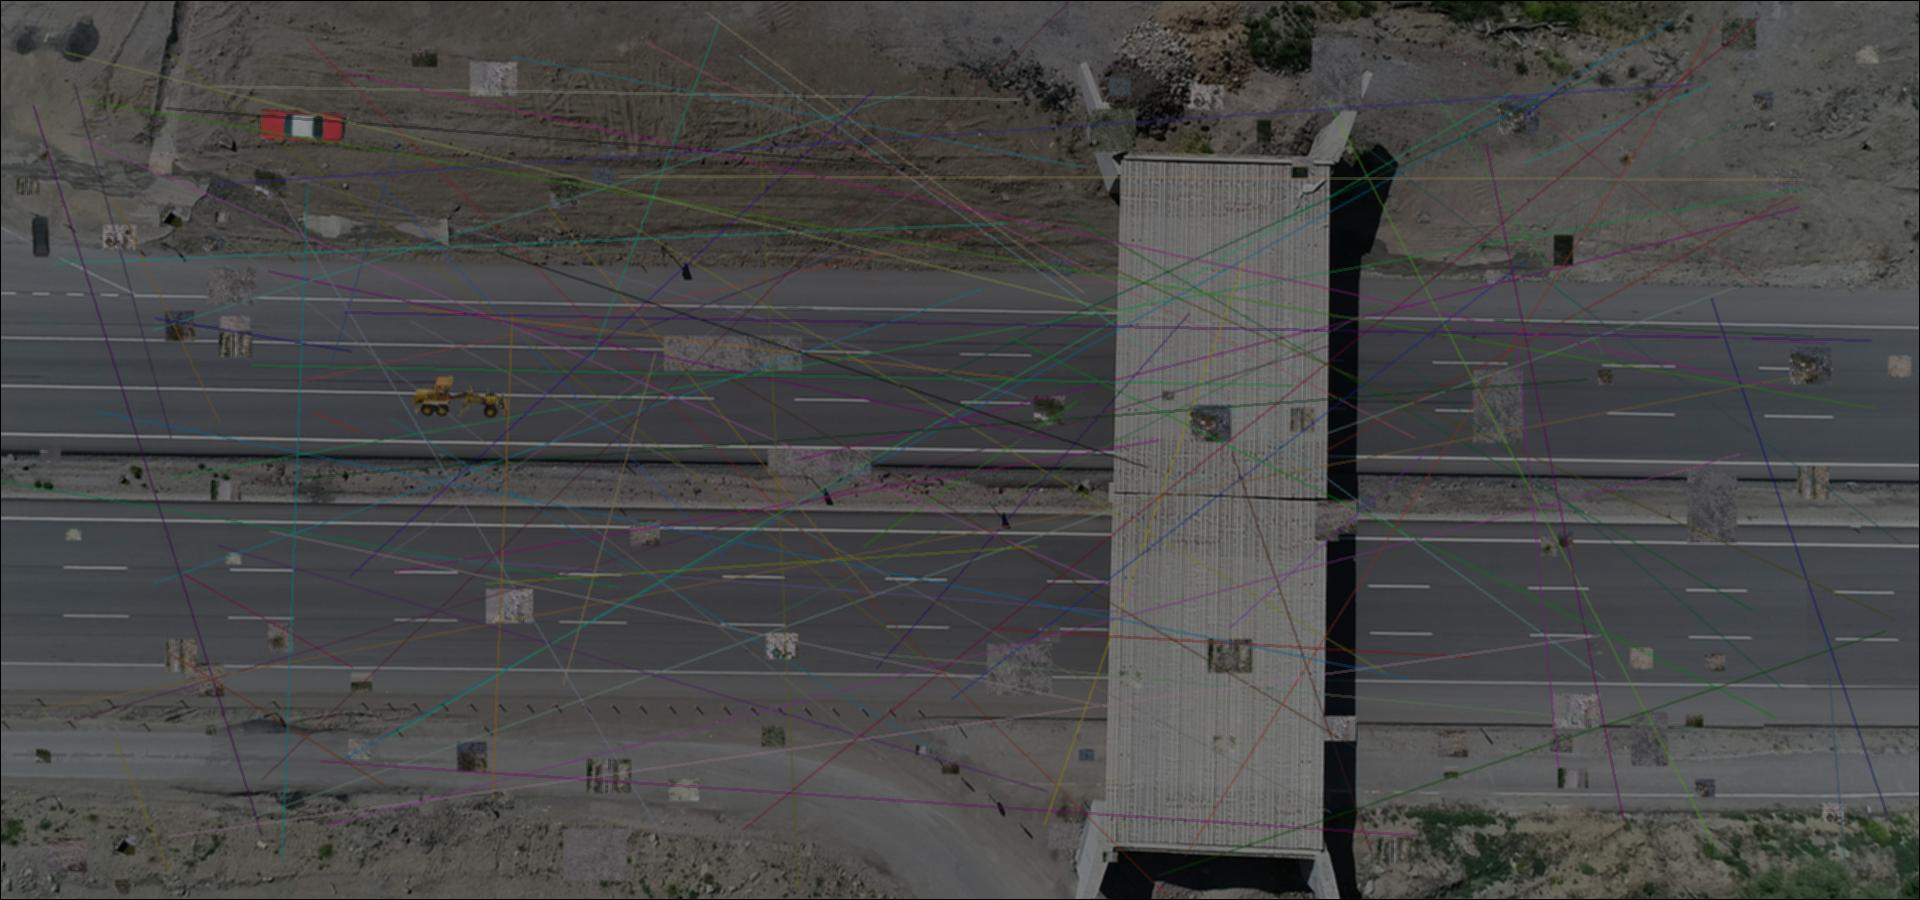arac: (408, 375, 509, 419), (256, 107, 347, 144), (28, 216, 51, 257)
